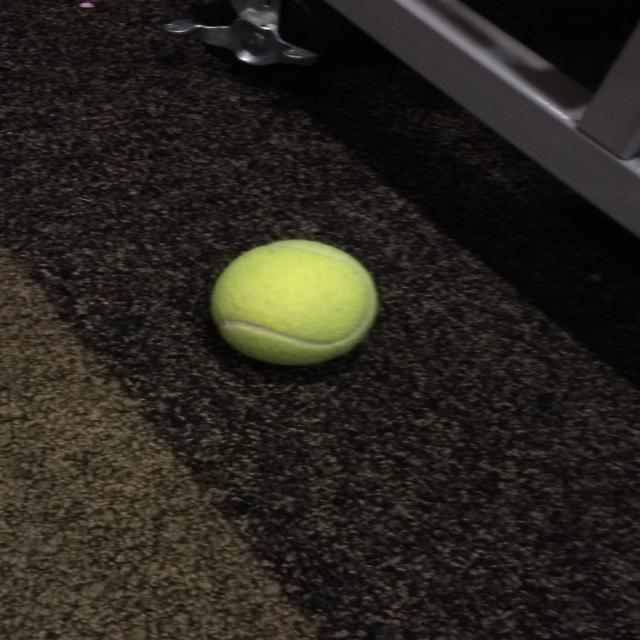Tennis-Ball: (199, 228, 403, 372)
